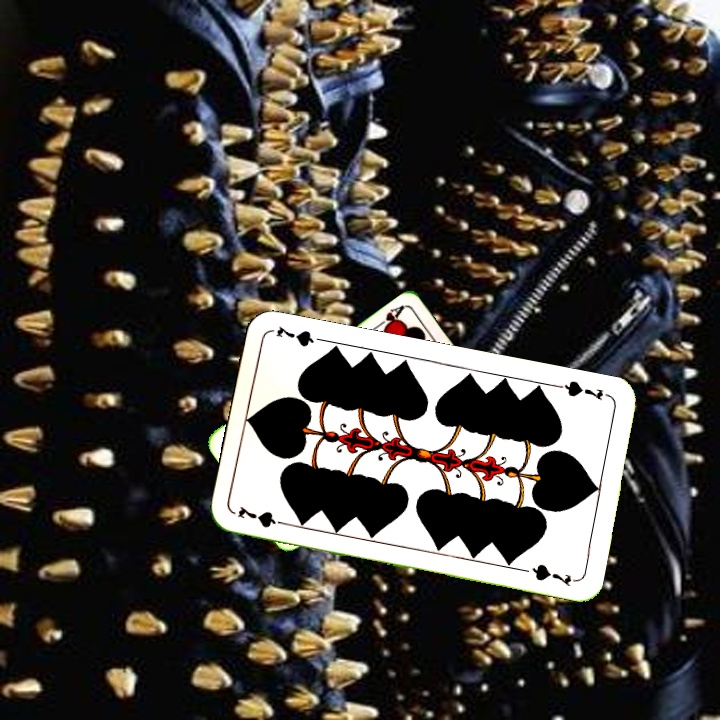G7: (234, 502, 293, 531), (554, 376, 612, 403)
HA: (372, 301, 407, 334)
